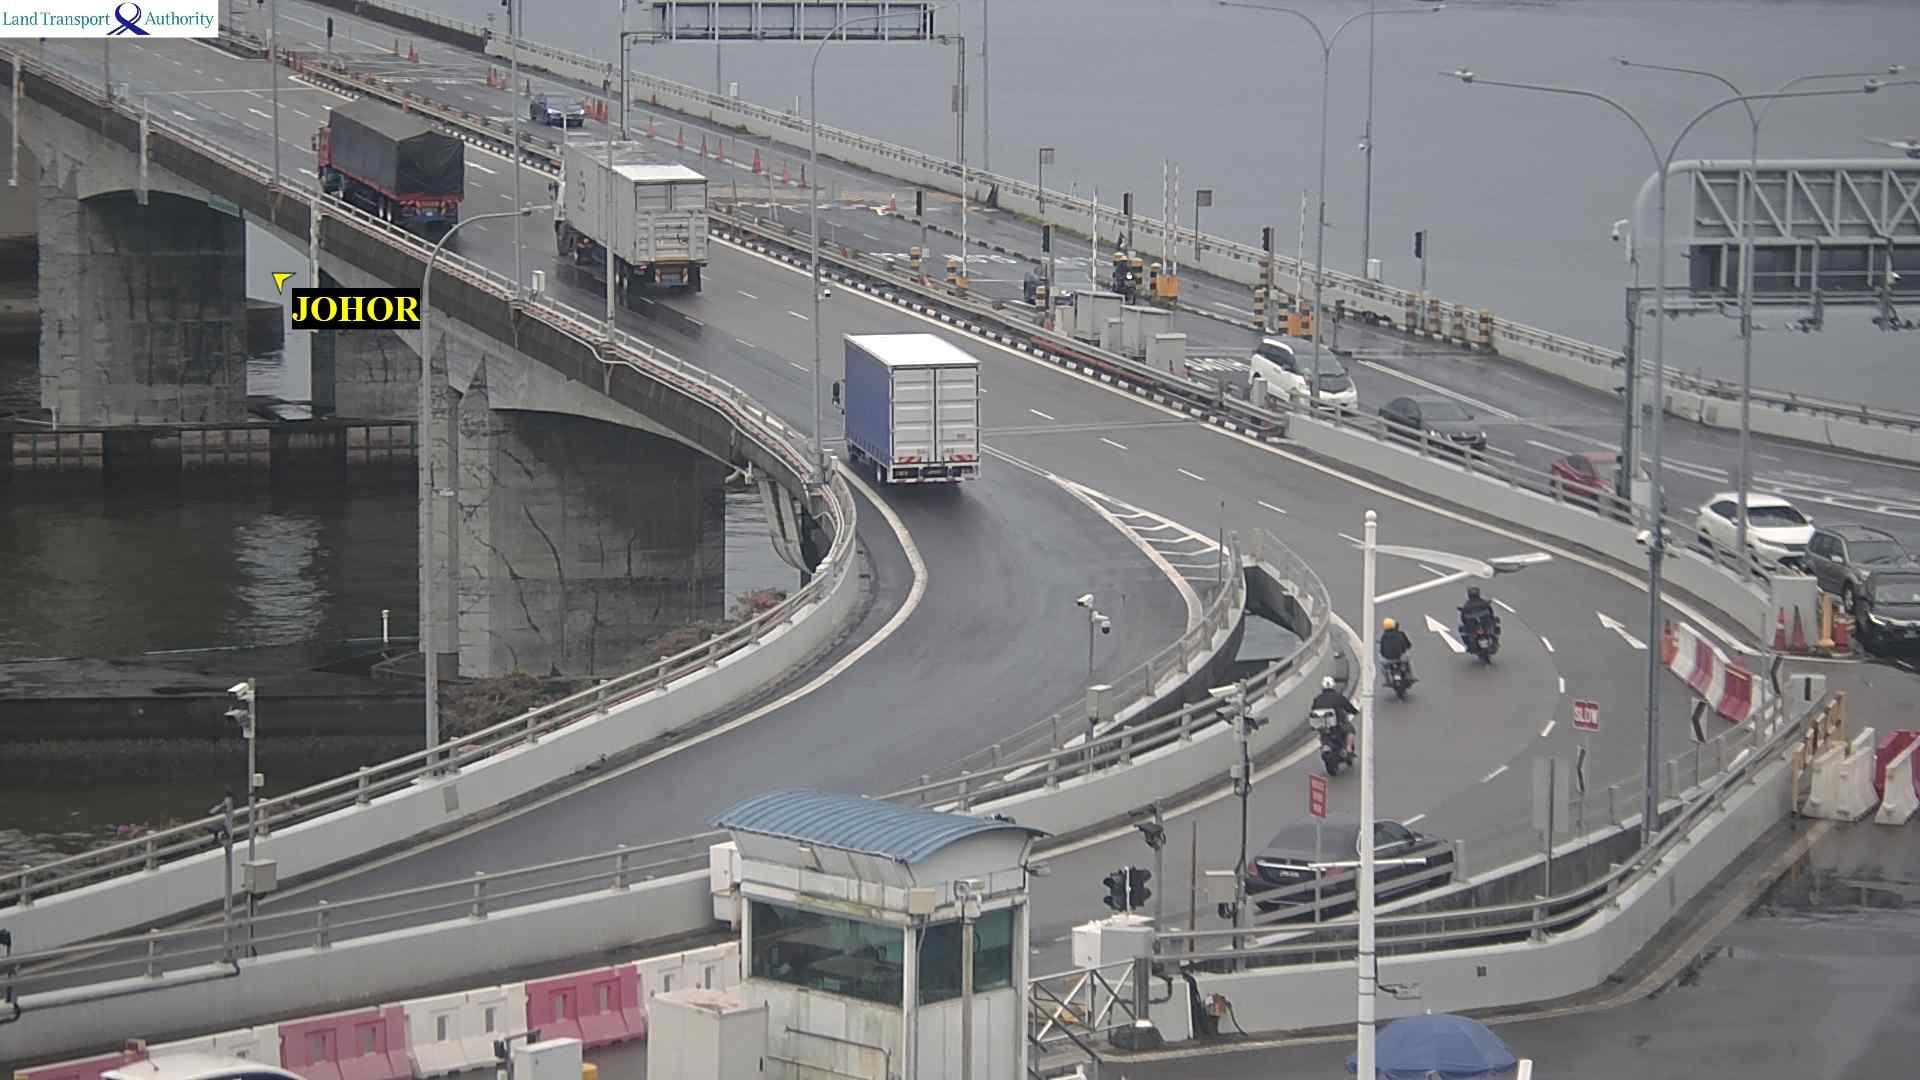vehicle-secondlink-johor: (836, 332, 980, 489), (562, 158, 709, 297), (1244, 816, 1458, 910), (318, 94, 463, 231), (1452, 589, 1509, 658), (1316, 675, 1352, 765), (1374, 626, 1416, 691)
vehicle-secondlink-singapore: (1816, 531, 1920, 658), (1253, 338, 1358, 418), (1556, 451, 1663, 517), (1381, 390, 1482, 458), (1697, 492, 1808, 547), (1816, 533, 1915, 587), (526, 90, 592, 131)
